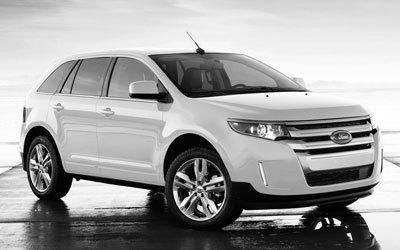car: (21, 31, 382, 228)
